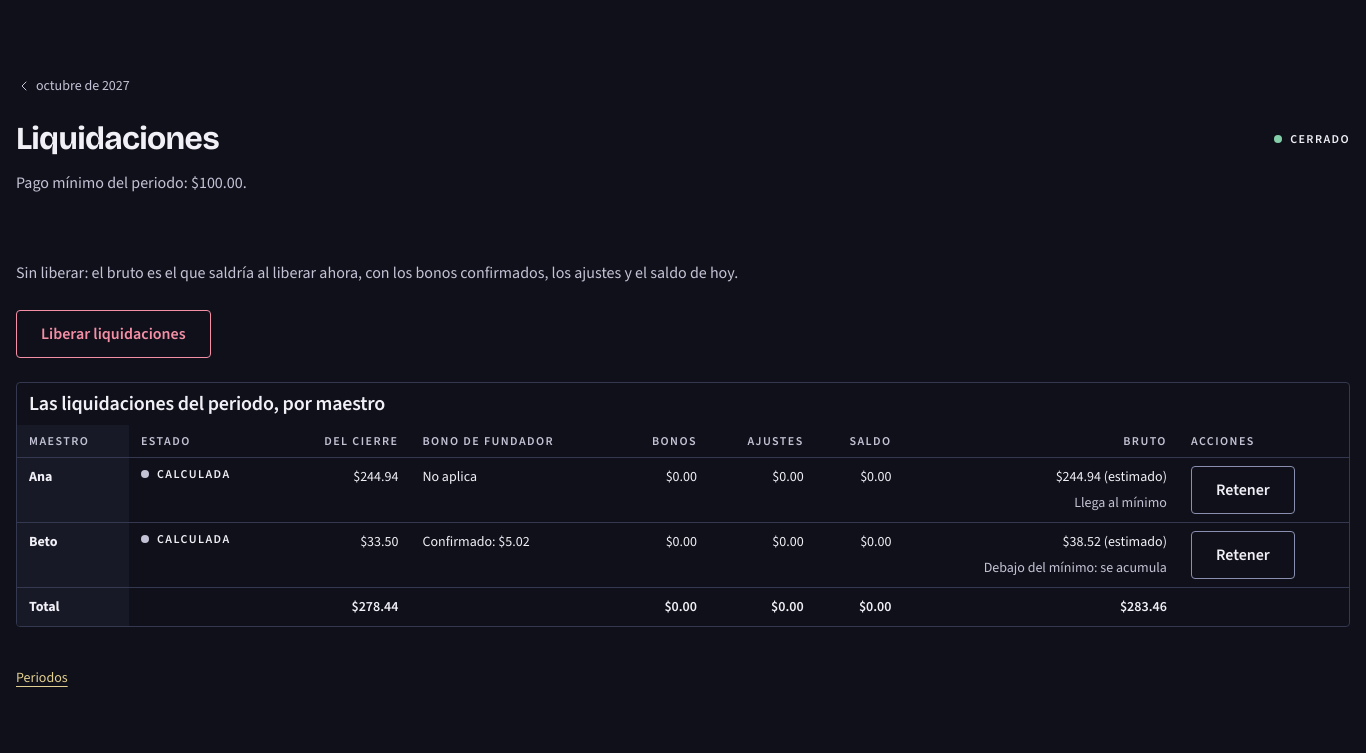
Test: PA-81, las liquidaciones del periodo › el diálogo de una vista que ya no es la que se ve no se pinta, y se dice que las cifras cambiaron
The image size is (1366, 753).
What coordinates should you click on to do the following:
click the button "Liberar liquidaciones"
I would click on:
 (113, 334)
Its box is [16,310,211,358].
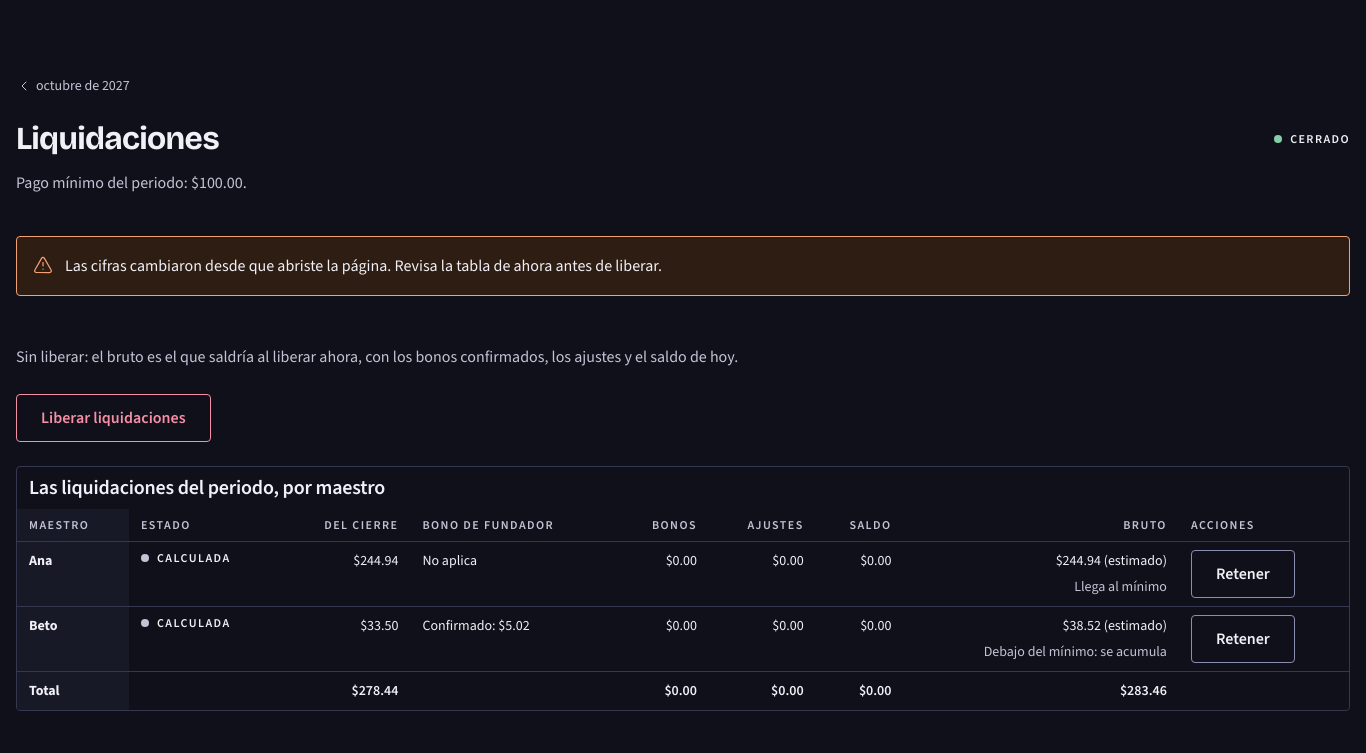
Expected: the text "Las cifras cambiaron desde que abriste la página. Revisa la tabla de ahora antes de liberar." is shown, [65,255,662,276]
